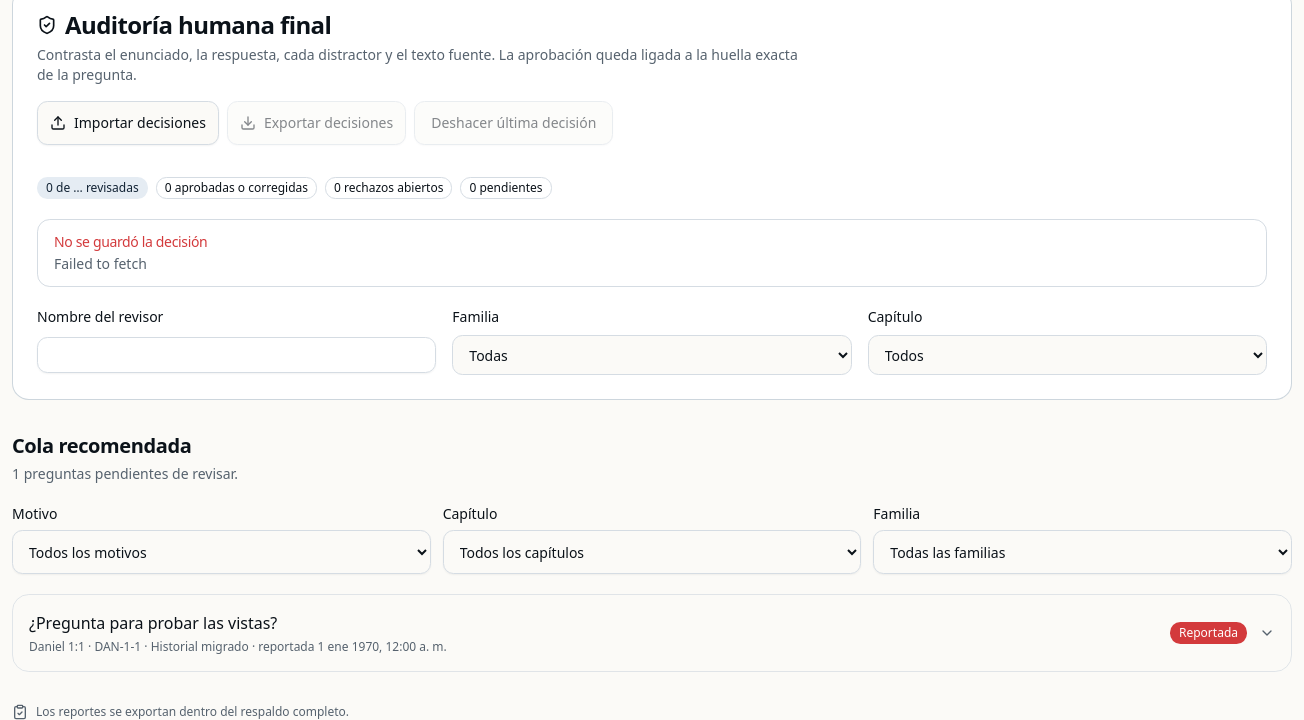
Test: vistas de progreso y revisión › muestra error de copia rechazada sin confirmar Copiado
(page scrolled)
Click the text "¿Pregunta para probar las vistas?" at (153, 623), box [29,612,277,634]
(page scrolled)
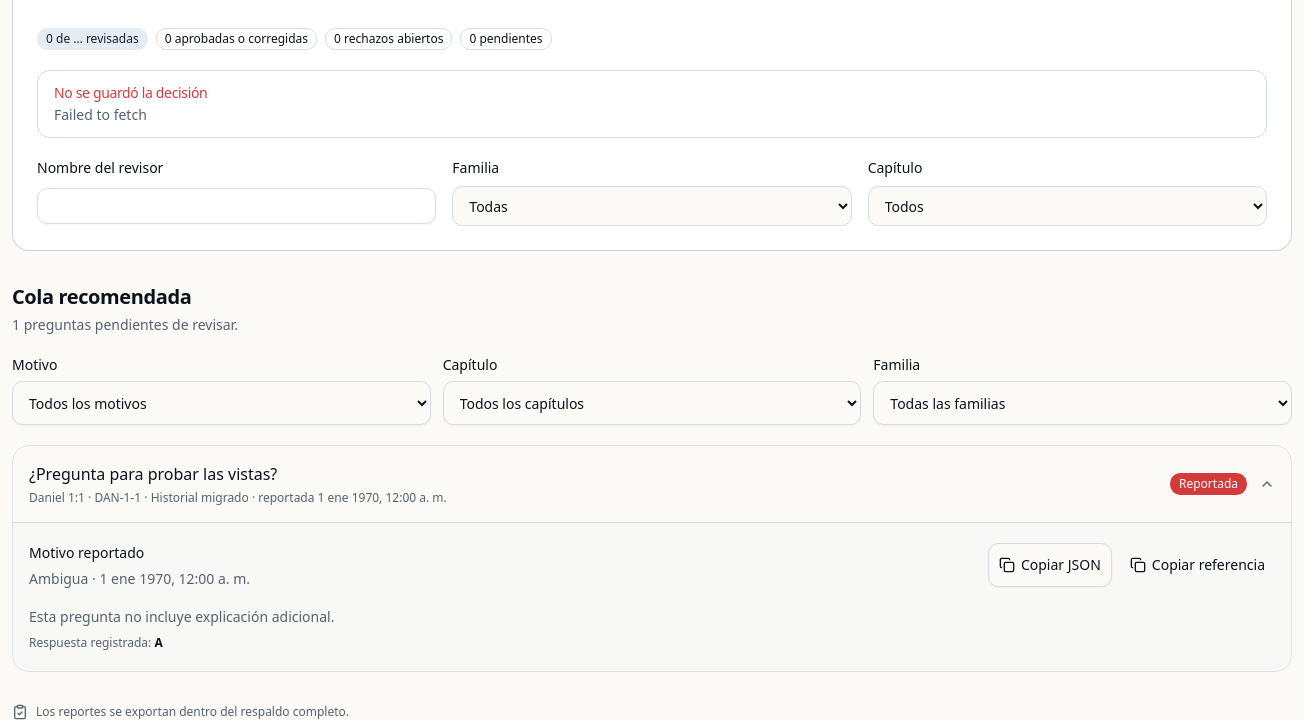
Click the button "Copiar JSON" at (1050, 565), box [988,543,1112,587]
(page scrolled)
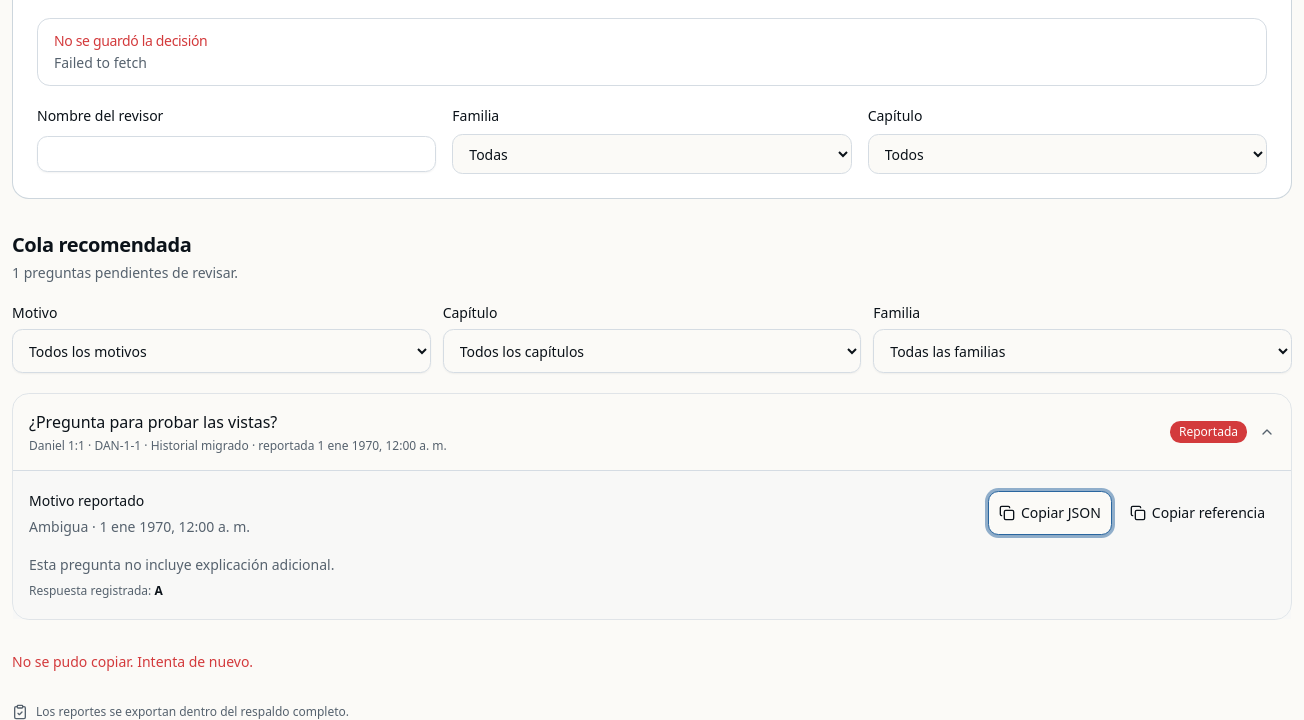
Now the message shows "No se pudo copiar", box [12,652,253,671]
